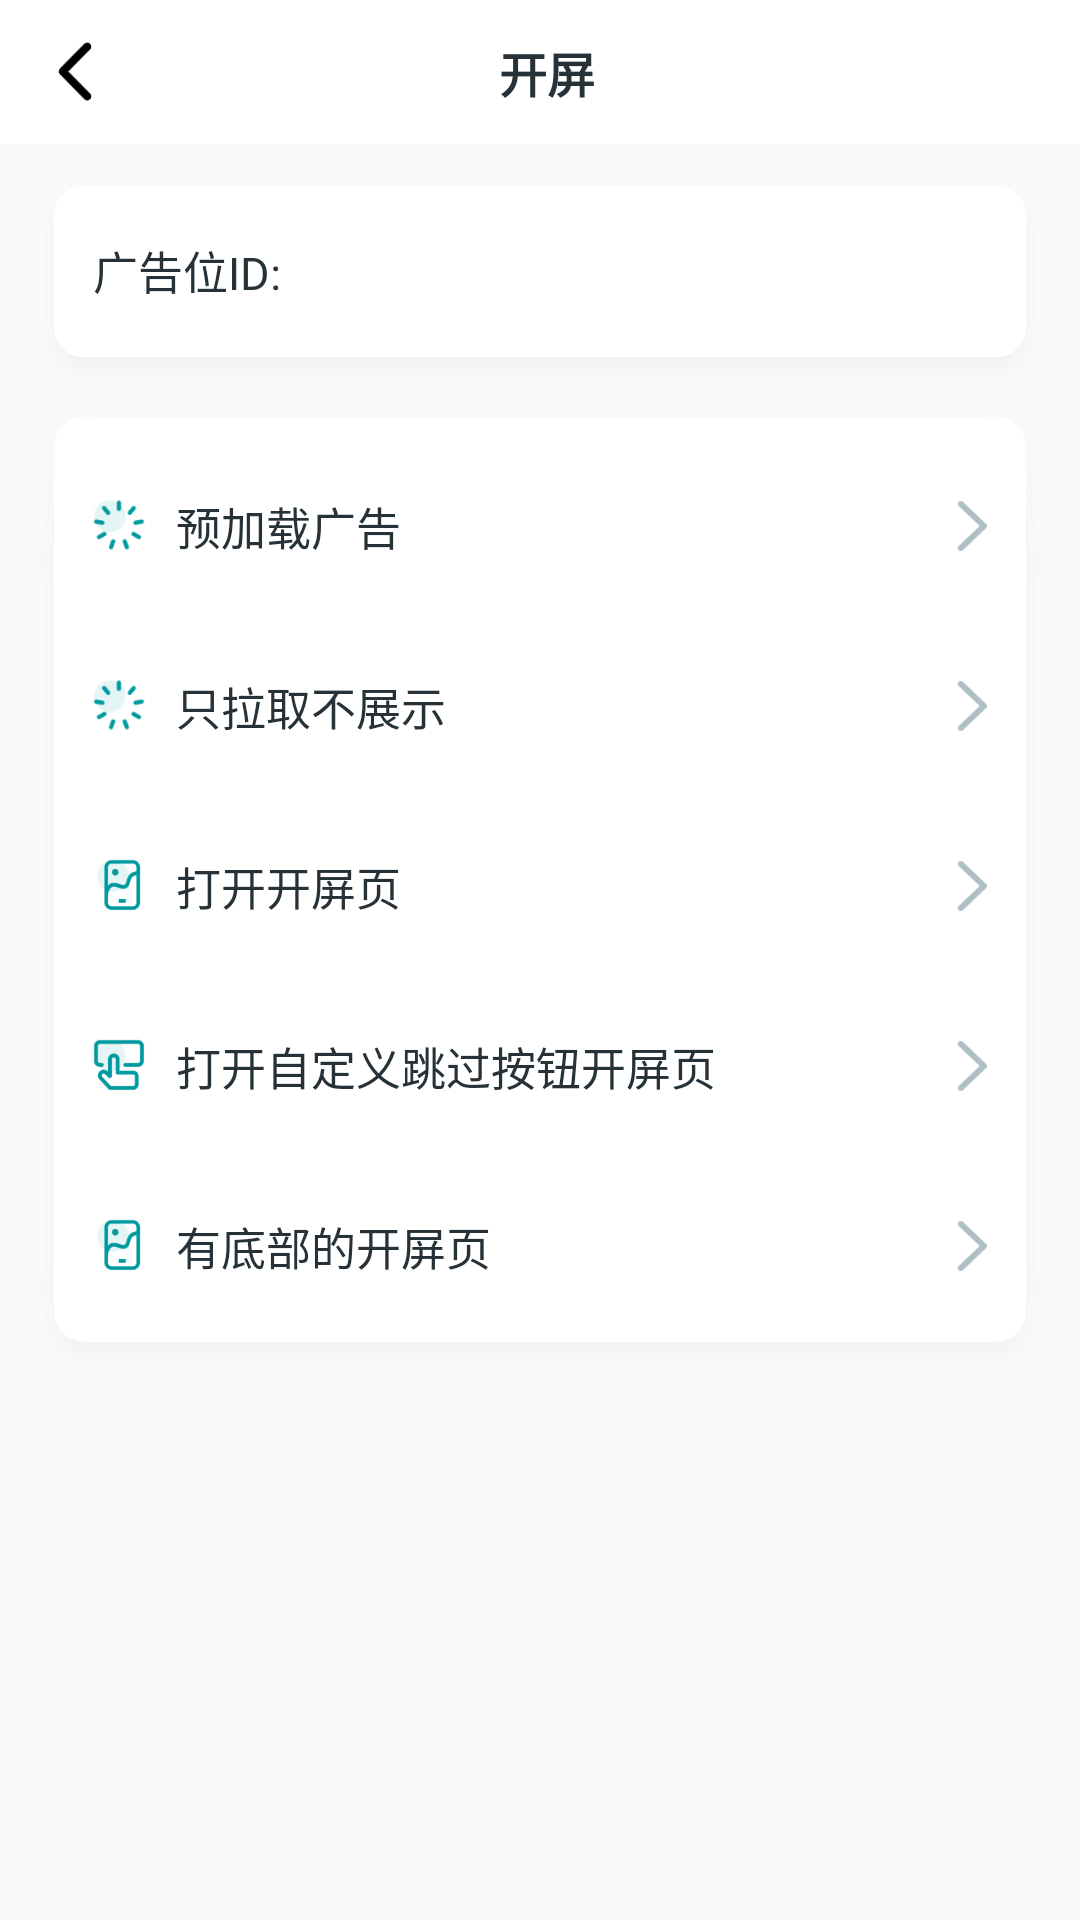

Icons on this 1080w x 1920h Android screen, each with the point to tap as point (x, y):
back: point (75, 71)
